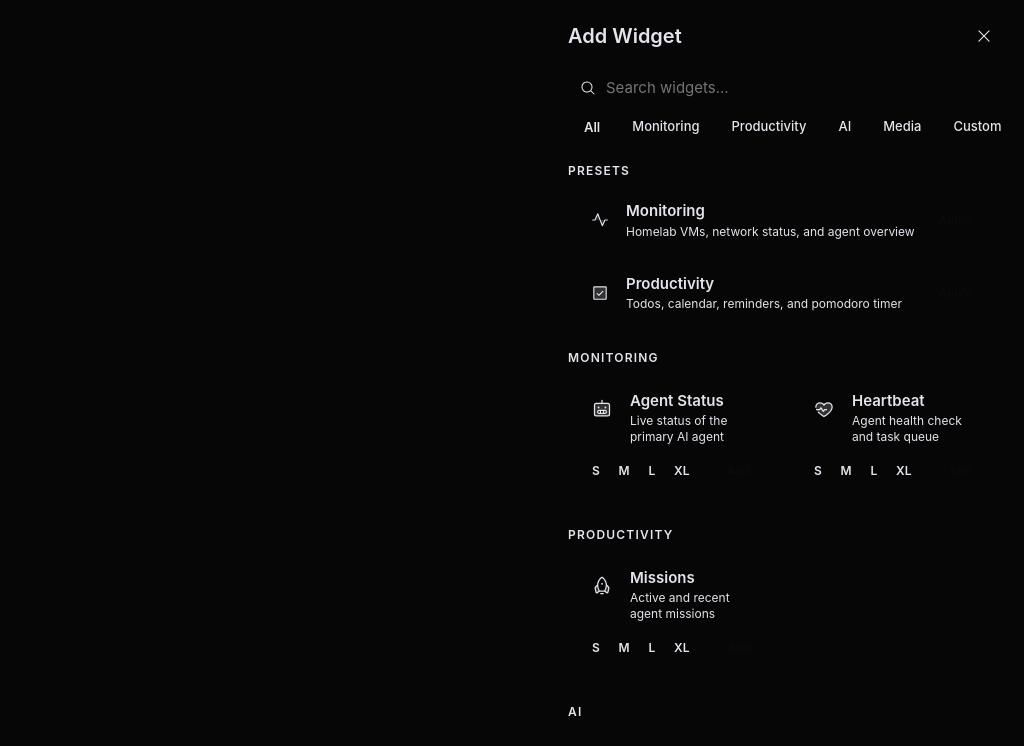
Scenario: WidgetPicker › search with no matches shows empty state
In the field with placeholder "Search widgets...": [796, 88] box 604,76 -> 988,100, type "zzzznothing"
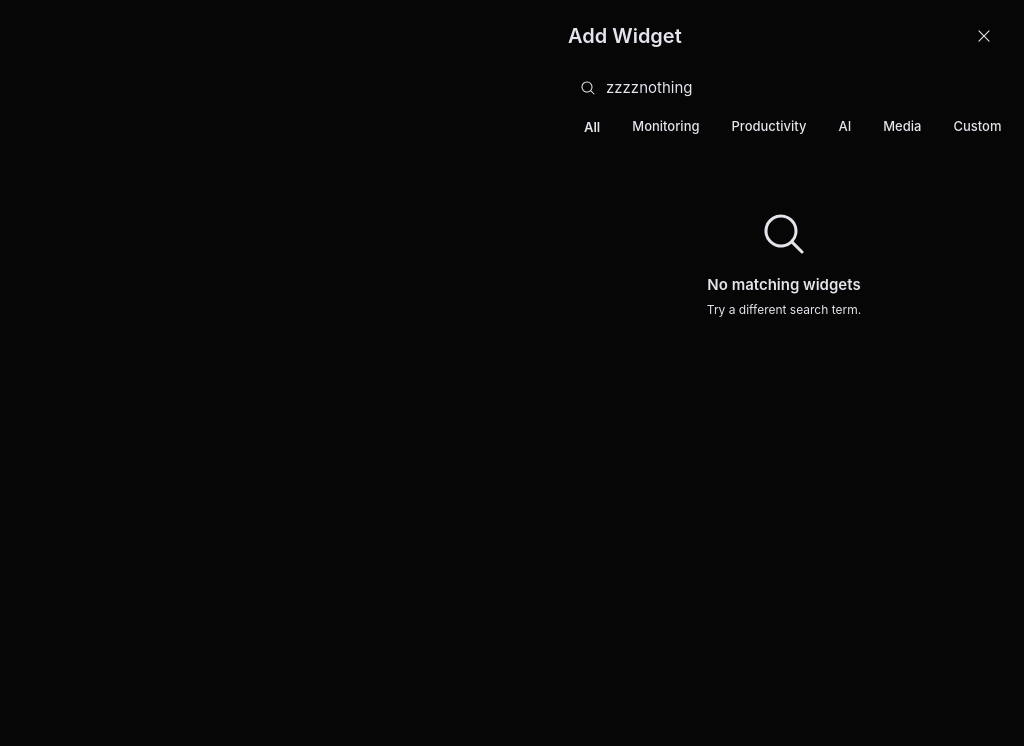
Expected: the text "No matching widgets" is shown, 707,274 -> 861,296
